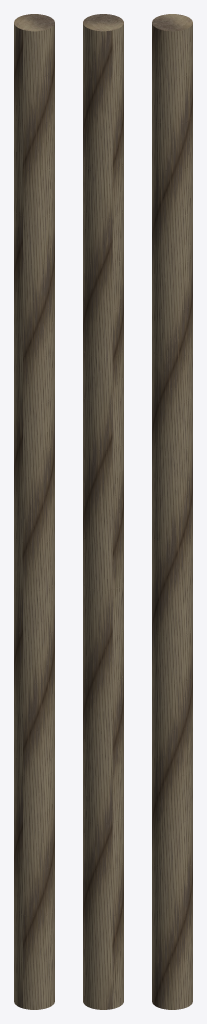
Rendered from Rope.fbx.
3 views of the same model, side by side, from view 1: azimuth 90°, elevation 25°; view 2: azimuth 150°, elevation 25°; view 3: azimuth 270°, elevation 25° (orthographic).
Parts seen in each view (by area): view 1: Cylinder; view 2: Cylinder; view 3: Cylinder.
Part boxes in pixels (x1,y1,x2,y2): Cylinder: (14, 14, 54, 1009); Cylinder: (83, 14, 123, 1009); Cylinder: (152, 14, 192, 1009).
Size of the model in its own units: 2 by 52.69 by 2.
